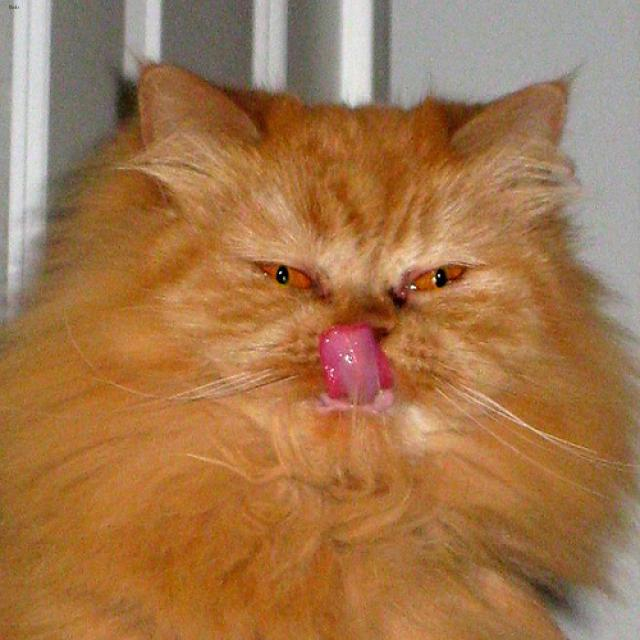cat: (137, 61, 567, 452)
